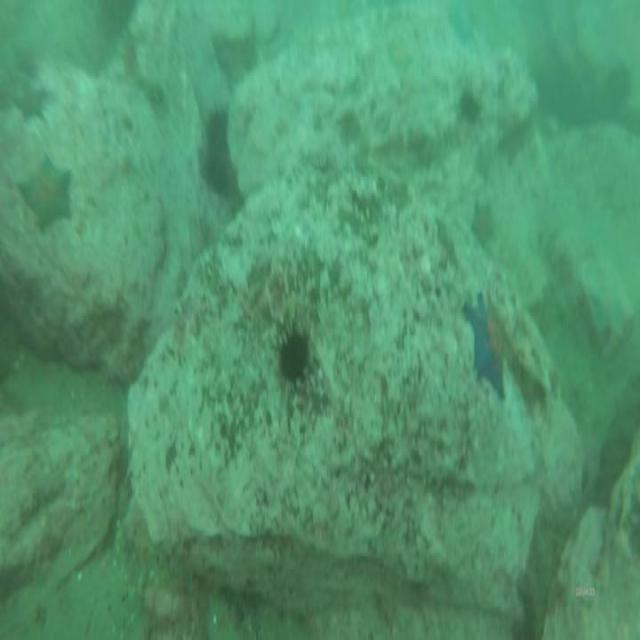echinus: (204, 109, 230, 190), (282, 330, 308, 376), (459, 87, 480, 125)
starfish: (464, 294, 506, 397), (20, 161, 72, 226), (16, 79, 44, 122), (448, 5, 471, 47), (473, 204, 494, 245), (407, 117, 428, 153)
